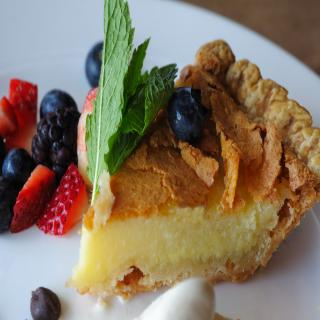Strawberry: (10, 160, 57, 237), (35, 168, 85, 236), (7, 77, 38, 110), (0, 95, 18, 134)
